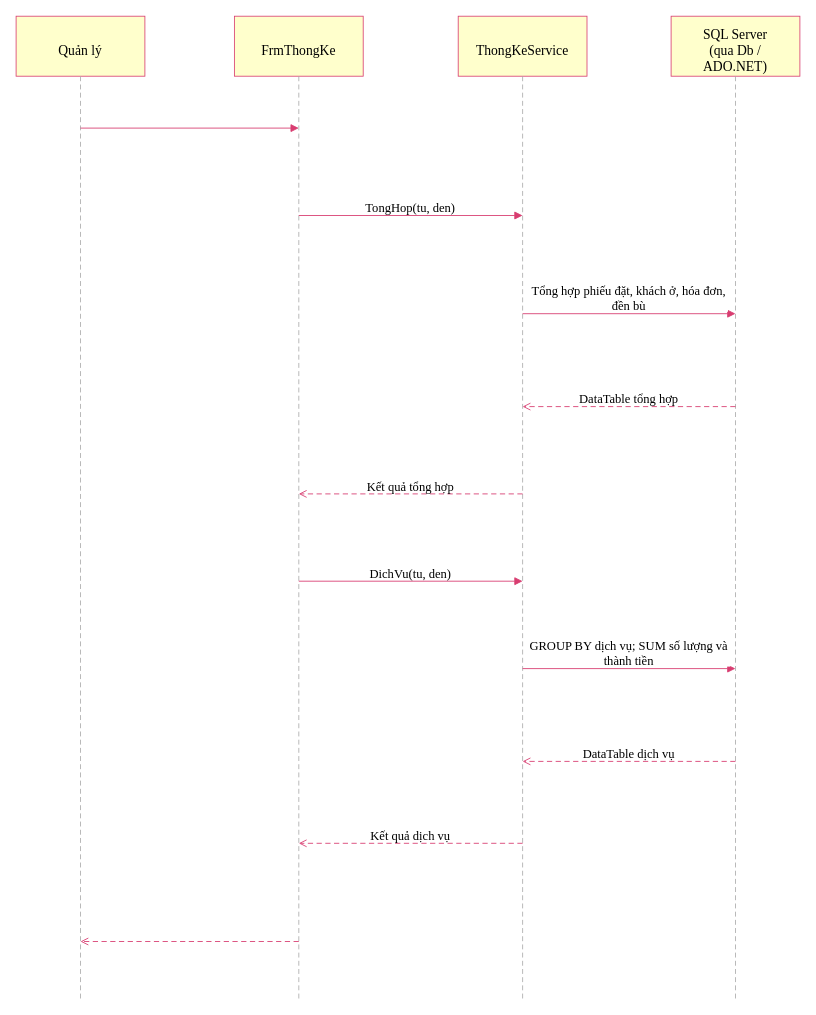
The diagram is 816 pixels wide and 1015 high, and some of its shapes have lost their labels. The box of each missing label's shape, as (x1, y1, x2, y2) in pixels:
Chọn từ ngày, đến ngày; Thống kê: (100, 108, 278, 126)
Hiển thị hai bảng thống kê: (121, 922, 258, 939)
